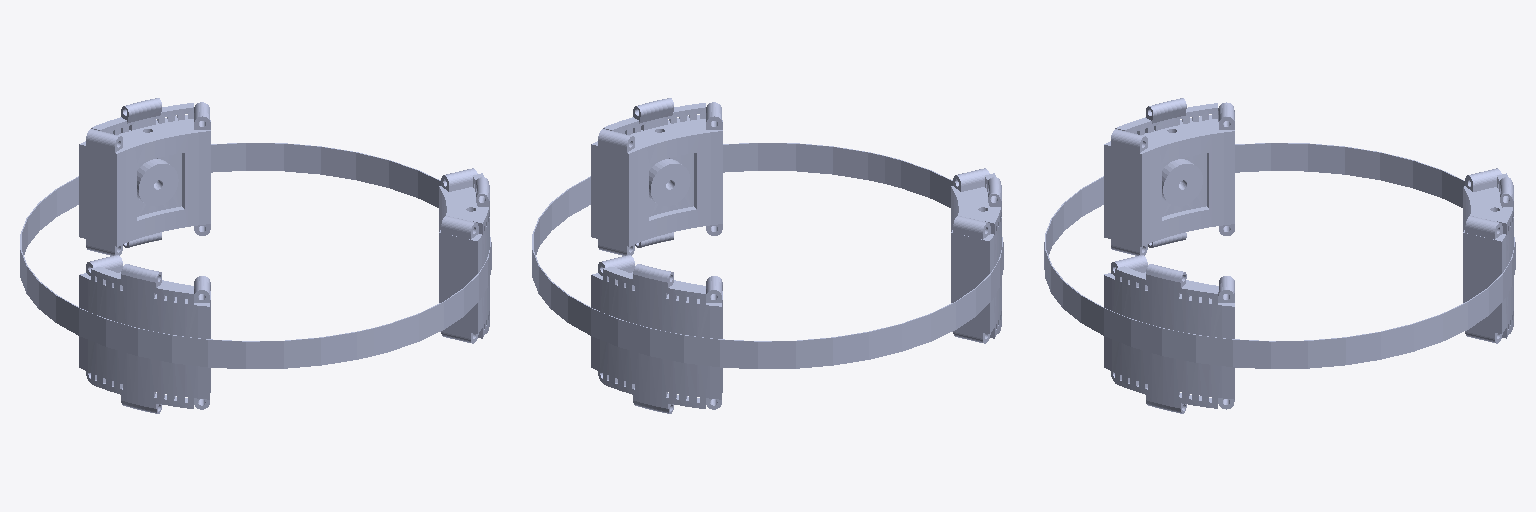
robot.urdf — SoftGrasperAssembly:
<?xml version="1.0" encoding="utf-8"?>
<!-- This URDF was automatically created by SolidWorks to URDF Exporter! Originally created by [author] ([email redacted]) 
     Commit Version: 1.6.0-4-g7f85cfe  Build Version: 1.6.7995.38578
     For more information, please see http://wiki.ros.org/sw_urdf_exporter -->
<robot
  name="SoftGrasperAssembly">
  <link
    name="ConstrainingCylinder">
    <inertial>
      <origin
        xyz="0.0975764703577163 -0.0752056146841021 -0.0453675725517977"
        rpy="0 0 0" />
      <mass
        value="0.0019298407105256" />
      <inertia
        ixx="5.70536612199393E-06"
        ixy="4.12769380361416E-36"
        ixz="-2.75574912167852E-37"
        iyy="5.70536612199388E-06"
        iyz="3.47371967530493E-22"
        izz="1.13785682321457E-05" />
    </inertial>
    <visual>
      <origin
        xyz="0 0 0"
        rpy="0 0 0" />
      <geometry>
        <mesh
          filename="package://SoftGrasperAssembly/meshes/ConstrainingCylinder.STL" />
      </geometry>
      <material
        name="">
        <color
          rgba="0.792156862745098 0.819607843137255 0.933333333333333 1" />
      </material>
    </visual>
    <collision>
      <origin
        xyz="0 0 0"
        rpy="0 0 0" />
      <geometry>
        <mesh
          filename="package://SoftGrasperAssembly/meshes/ConstrainingCylinder.STL" />
      </geometry>
    </collision>
  </link>
  <link
    name="JawSupport">
    <inertial>
      <origin
        xyz="0 -6.088E-05 0.0056971"
        rpy="0 0 0" />
      <mass
        value="100" />
      <inertia
        ixx="2.8922E-06"
        ixy="2.1357E-21"
        ixz="1.622E-20"
        iyy="3.6958E-06"
        iyz="-8.3292E-10"
        izz="5.9269E-06" />
    </inertial>
    <visual>
      <origin
        xyz="0 0 0"
        rpy="0 0 0" />
      <geometry>
        <mesh
          filename="package://SoftGrasperAssembly/meshes/JawSupport.STL" />
      </geometry>
      <material
        name="">
        <color
          rgba="0.79216 0.81961 0.93333 1" />
      </material>
    </visual>
    <collision>
      <origin
        xyz="0 0 0"
        rpy="0 0 0" />
      <geometry>
        <mesh
          filename="package://SoftGrasperAssembly/meshes/JawSupport.STL" />
      </geometry>
    </collision>
  </link>
  <joint
    name="LinearJaw1"
    type="prismatic">
    <origin
      xyz="0.097576 0 -0.045368"
      rpy="1.5708 0 0" />
    <parent
      link="ConstrainingCylinder" />
    <child
      link="JawSupport" />
    <axis
      xyz="0 0 1" />
    <limit
      lower="0"
      upper="1"
      effort="0"
      velocity="0" />
    <dynamics
      damping="0.1"
      friction="0.1" />
  </joint>
  <link
    name="SoftJaw1">
    <inertial>
      <origin
        xyz="-1.3878E-17 -6.9389E-18 -0.054391"
        rpy="0 0 0" />
      <mass
        value="0.015121" />
      <inertia
        ixx="1.7236E-06"
        ixy="-3.1802E-21"
        ixz="1.0893E-21"
        iyy="1.331E-06"
        iyz="2.3318E-22"
        izz="2.4259E-06" />
    </inertial>
    <visual>
      <origin
        xyz="0 0 0"
        rpy="0 0 0" />
      <geometry>
        <mesh
          filename="package://SoftGrasperAssembly/meshes/SoftJaw1.STL" />
      </geometry>
      <material
        name="">
        <color
          rgba="0.79216 0.81961 0.93333 1" />
      </material>
    </visual>
    <collision>
      <origin
        xyz="0 0 0"
        rpy="0 0 0" />
      <geometry>
        <mesh
          filename="package://SoftGrasperAssembly/meshes/SoftJaw1.STL" />
      </geometry>
    </collision>
  </link>
  <joint
    name="SJ1"
    type="fixed">
    <origin
      xyz="0 0 0.075206"
      rpy="0 0 0" />
    <parent
      link="JawSupport" />
    <child
      link="SoftJaw1" />
    <axis
      xyz="0 0 0" />
  </joint>
  <link
    name="JawSupport2">
    <inertial>
      <origin
        xyz="-5.0259E-09 -6.0879E-05 -0.022608"
        rpy="0 0 0" />
      <mass
        value="0.020019" />
      <inertia
        ixx="2.8922E-06"
        ixy="2.1735E-13"
        ixz="2.0391E-13"
        iyy="3.6958E-06"
        iyz="-8.3305E-10"
        izz="5.9269E-06" />
    </inertial>
    <visual>
      <origin
        xyz="0 0 0"
        rpy="0 0 0" />
      <geometry>
        <mesh
          filename="package://SoftGrasperAssembly/meshes/JawSupport2.STL" />
      </geometry>
      <material
        name="">
        <color
          rgba="0.79216 0.81961 0.93333 1" />
      </material>
    </visual>
    <collision>
      <origin
        xyz="0 0 0"
        rpy="0 0 0" />
      <geometry>
        <mesh
          filename="package://SoftGrasperAssembly/meshes/JawSupport2.STL" />
      </geometry>
    </collision>
  </link>
  <joint
    name="LinearJaw2"
    type="prismatic">
    <origin
      xyz="0.056959 -0.098656 -0.045368"
      rpy="1.5708 0 2.0944" />
    <parent
      link="ConstrainingCylinder" />
    <child
      link="JawSupport2" />
    <axis
      xyz="0 0 1" />
    <limit
      lower="0"
      upper="1"
      effort="0"
      velocity="0" />
    <dynamics
      damping="0.1"
      friction="0.1" />
  </joint>
  <link
    name="JawSupport3">
    <inertial>
      <origin
        xyz="5.0259E-09 -6.0879E-05 -0.031111"
        rpy="0 0 0" />
      <mass
        value="0.020019" />
      <inertia
        ixx="2.8922E-06"
        ixy="-2.1735E-13"
        ixz="-2.0391E-13"
        iyy="3.6958E-06"
        iyz="-8.3305E-10"
        izz="5.9269E-06" />
    </inertial>
    <visual>
      <origin
        xyz="0 0 0"
        rpy="0 0 0" />
      <geometry>
        <mesh
          filename="package://SoftGrasperAssembly/meshes/JawSupport3.STL" />
      </geometry>
      <material
        name="">
        <color
          rgba="0.79216 0.81961 0.93333 1" />
      </material>
    </visual>
    <collision>
      <origin
        xyz="0 0 0"
        rpy="0 0 0" />
      <geometry>
        <mesh
          filename="package://SoftGrasperAssembly/meshes/JawSupport3.STL" />
      </geometry>
    </collision>
  </link>
  <joint
    name="LinearJaw3"
    type="prismatic">
    <origin
      xyz="0.13083 -0.094404 -0.045368"
      rpy="1.5708 0 -2.0944" />
    <parent
      link="ConstrainingCylinder" />
    <child
      link="JawSupport3" />
    <axis
      xyz="0 0 1" />
    <limit
      lower="0"
      upper="1"
      effort="0"
      velocity="0" />
    <dynamics
      damping="0.1"
      friction="0.1" />
  </joint>
</robot>

--- Render facts (derived) ---
The picture shows the robot from 3 angles, left to right: view 1: azimuth 30°, elevation 25°; view 2: azimuth 150°, elevation 25°; view 3: azimuth 270°, elevation 25°; orthographic projection.
Model SoftGrasperAssembly with 5 links and 4 joints (3 prismatic, 1 fixed), rooted at ConstrainingCylinder, posed every joint at zero.
Visible links, largest first — view 1: ConstrainingCylinder, JawSupport, JawSupport2, JawSupport3; view 2: ConstrainingCylinder, JawSupport3, JawSupport, JawSupport2; view 3: ConstrainingCylinder, JawSupport2, JawSupport3, JawSupport.
Link boxes in pixels (x1,y1,x2,y2): ConstrainingCylinder: (20,143,491,368); JawSupport: (79,98,210,255); JawSupport2: (79,255,210,413); JawSupport3: (439,168,489,343); ConstrainingCylinder: (532,143,1003,368); JawSupport3: (591,98,722,255); JawSupport: (591,255,722,413); JawSupport2: (951,168,1001,343); ConstrainingCylinder: (1044,143,1515,368); JawSupport2: (1104,98,1234,255); JawSupport3: (1104,255,1234,413); JawSupport: (1463,168,1513,343).
Bounding box of the posed robot: 0.1538 × 0.154 × 0.0509 m (x, y, z).
4 mesh visuals loaded from 5 distinct referenced files (4 binary STL); not drawn: 1 (reference not matched to a file when rendering).